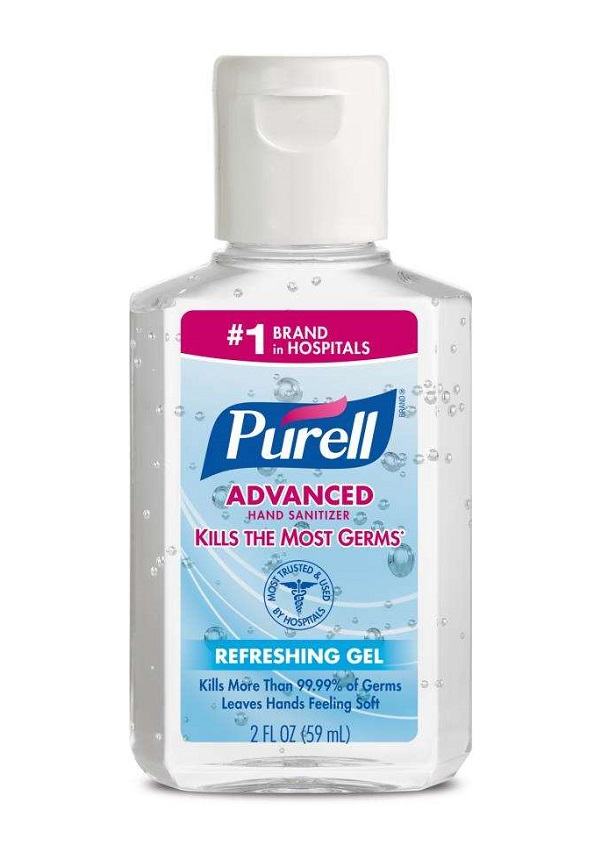Sanitizer: (118, 38, 483, 809)
